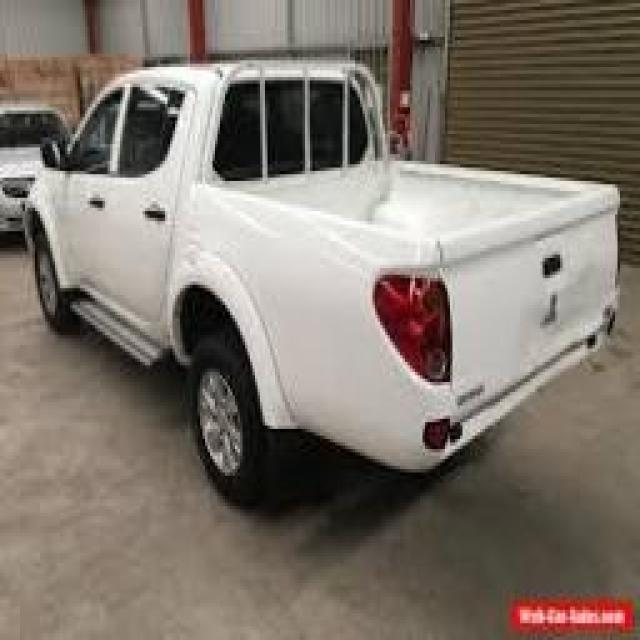Dickey: (568, 265, 628, 348)
